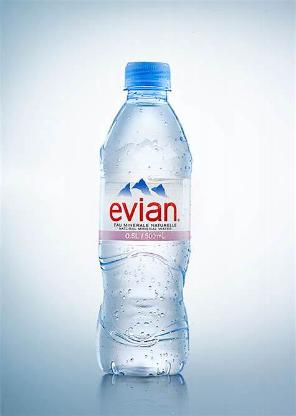Plastic Bottle: (96, 62, 194, 376)
